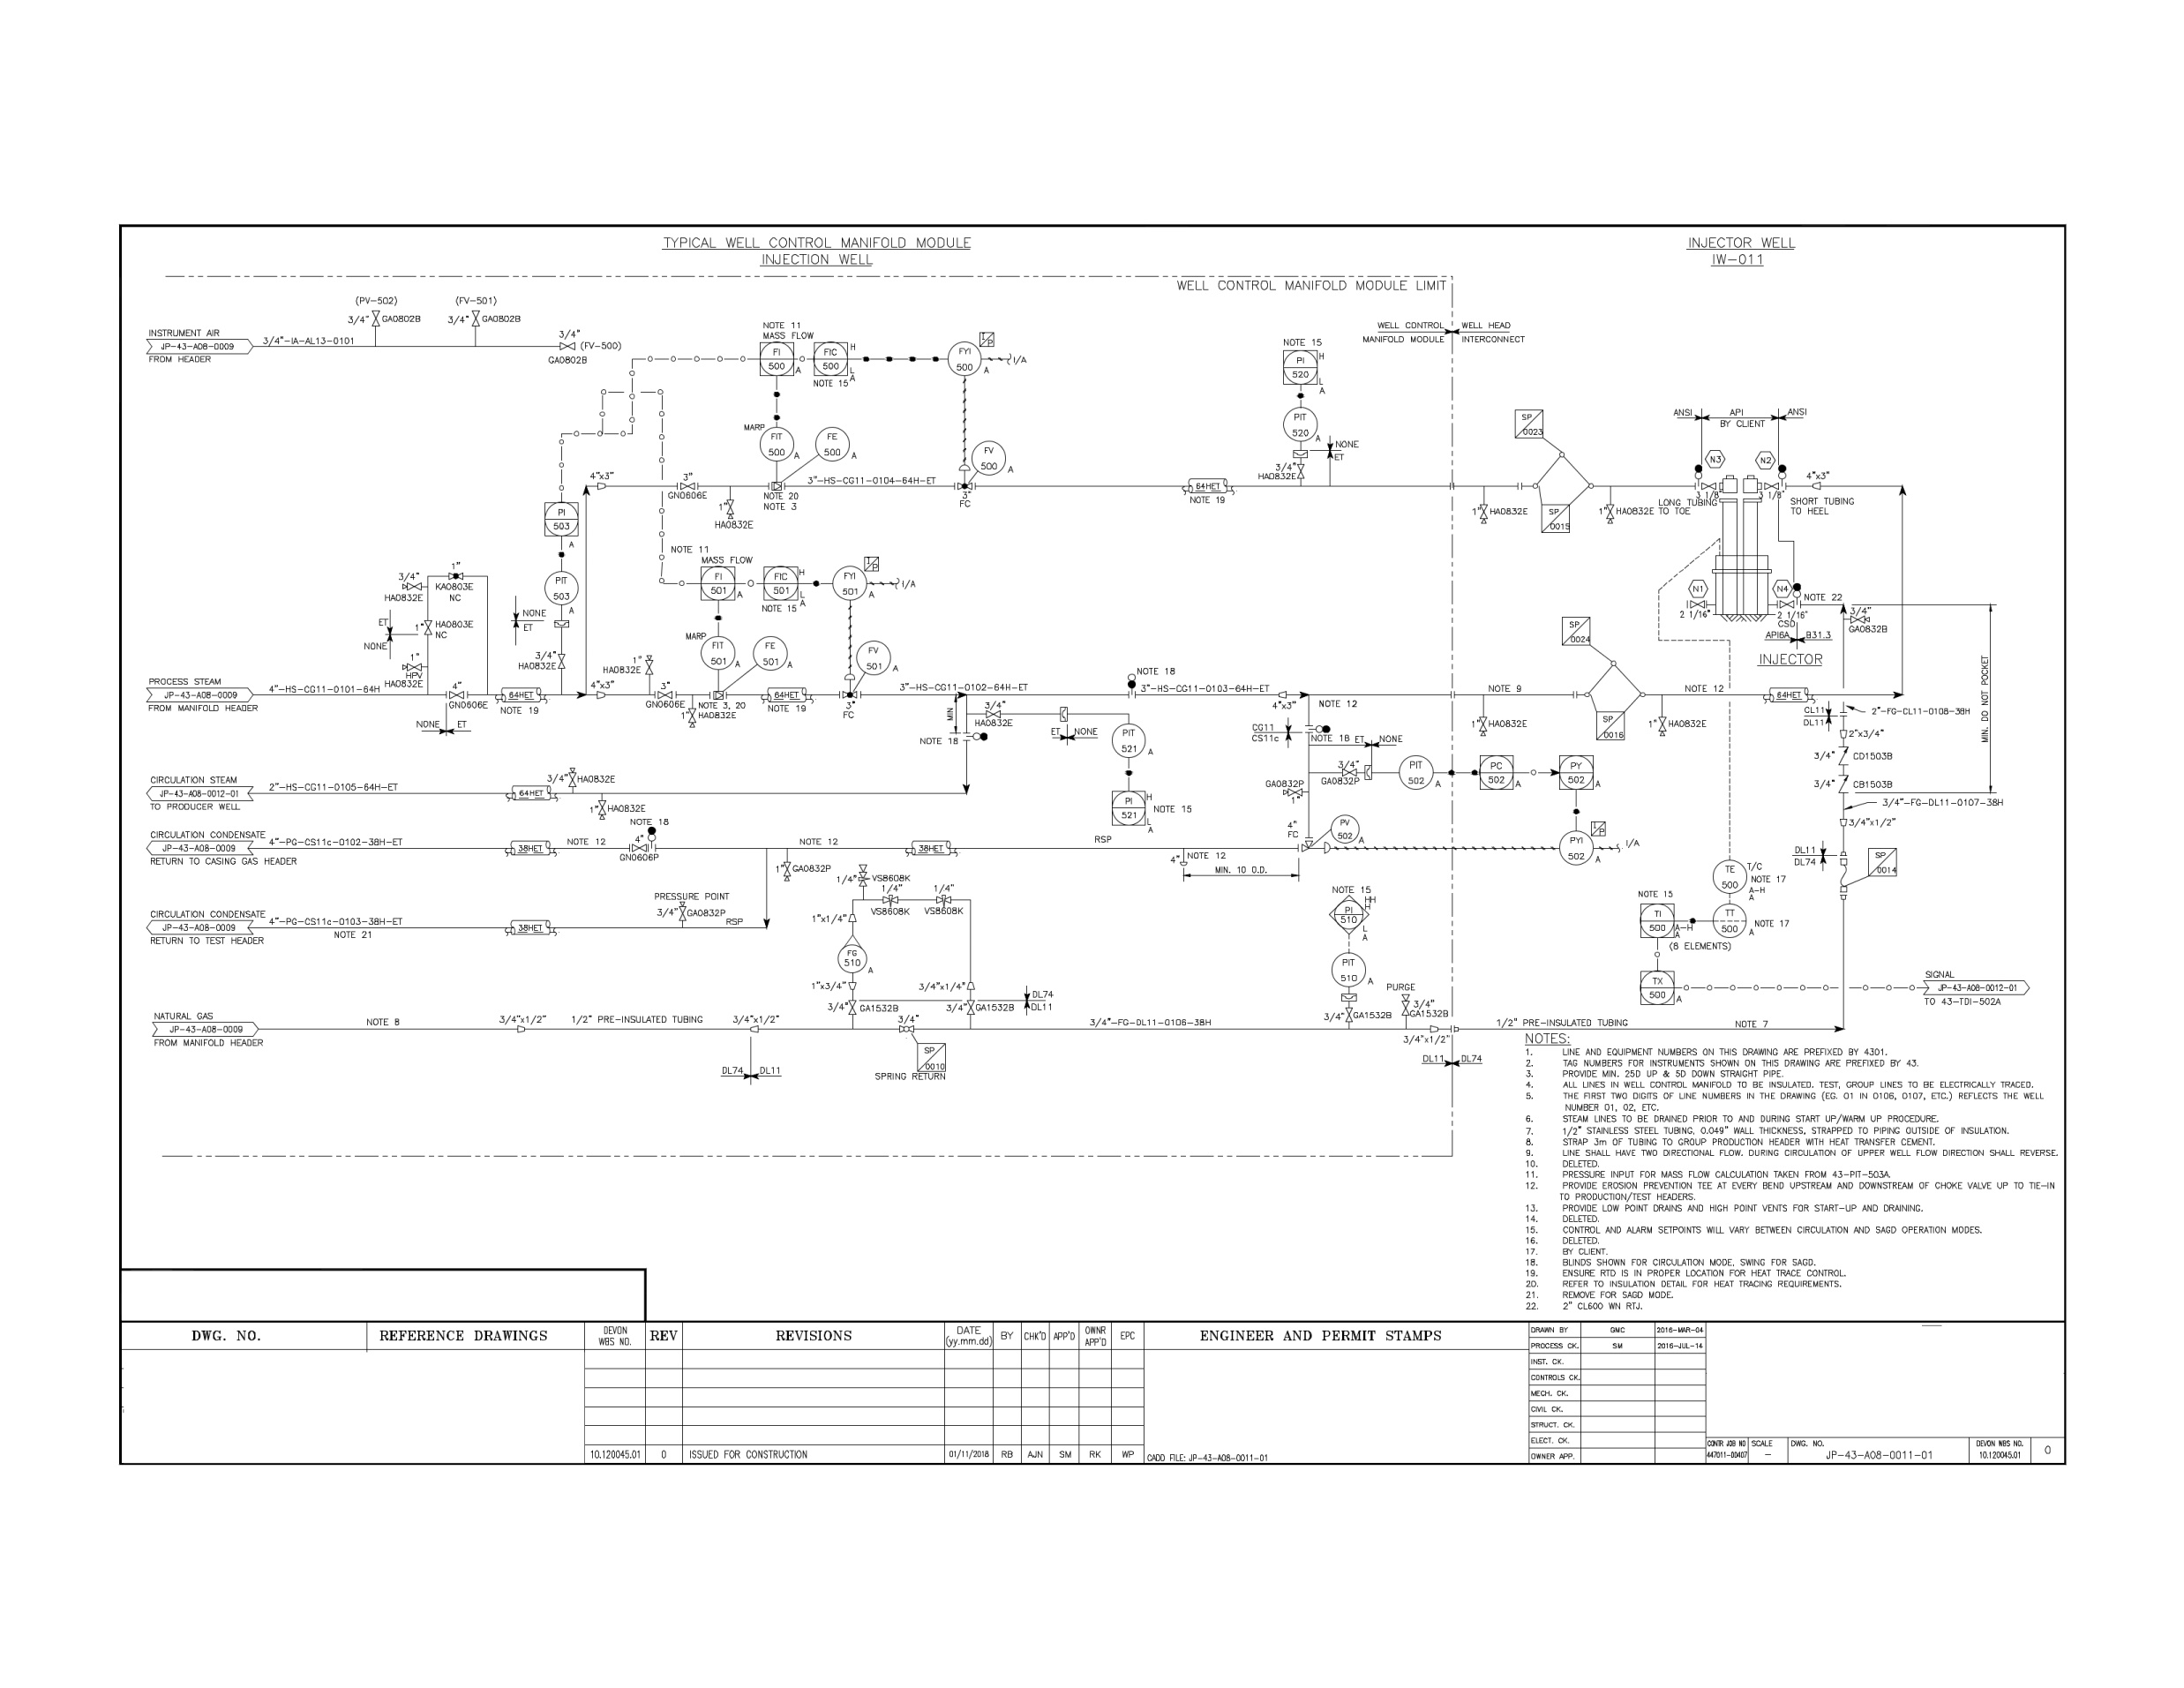Inline Instrument: (542, 569, 580, 608), (700, 633, 737, 672), (752, 633, 789, 672), (831, 562, 869, 601), (854, 637, 892, 676), (947, 339, 984, 378), (759, 426, 796, 465), (814, 424, 851, 463), (1282, 404, 1319, 443), (1112, 722, 1149, 761), (1331, 950, 1369, 989), (1328, 807, 1365, 846), (1397, 752, 1434, 791), (1711, 856, 1748, 895), (1711, 901, 1748, 940), (971, 438, 1007, 477)
Panel Instrument: (810, 339, 849, 379), (700, 562, 739, 603), (541, 498, 580, 539), (1108, 787, 1147, 828), (1477, 752, 1516, 793), (1638, 899, 1677, 940), (1638, 968, 1677, 1009), (1280, 348, 1319, 387), (759, 339, 796, 379), (762, 564, 800, 605), (1558, 752, 1595, 793)
